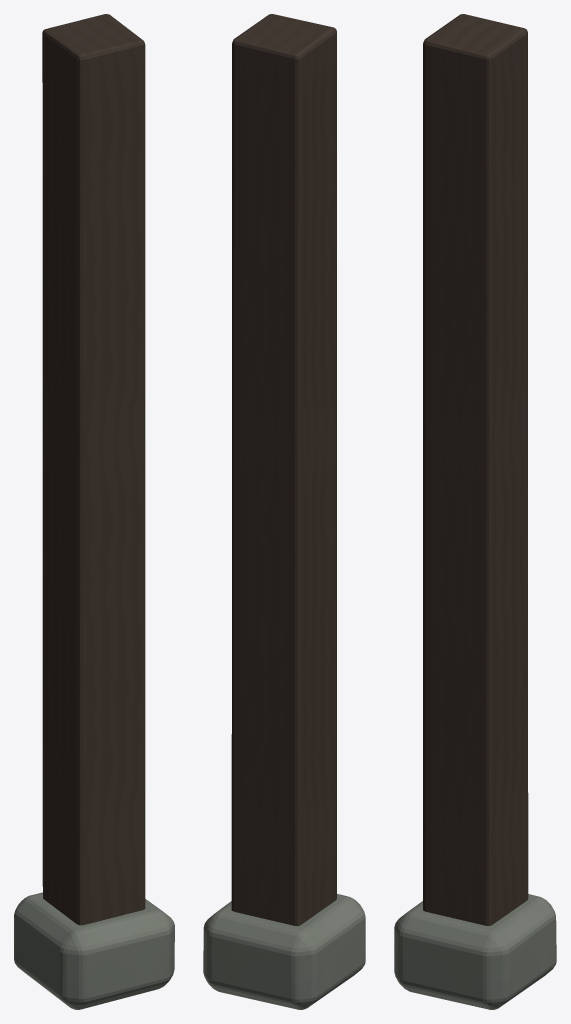
File: AR_Post_2p4m.glb
3 views of the same model, side by side, from view 1: azimuth 30°, elevation 25°; view 2: azimuth 150°, elevation 25°; view 3: azimuth 330°, elevation 25° (orthographic).
Parts seen in each view (by area): view 1: AR_Post_2p4m; view 2: AR_Post_2p4m; view 3: AR_Post_2p4m.
Part boxes in pixels (left/top/right/bottom): AR_Post_2p4m: left=14, top=14, right=174, bottom=1009; AR_Post_2p4m: left=203, top=14, right=365, bottom=1009; AR_Post_2p4m: left=394, top=14, right=556, bottom=1009.
Bounding box in the file's own units: 0.3016 × 2.4 × 0.3032.
Materials: 2 (2 with a texture image).
